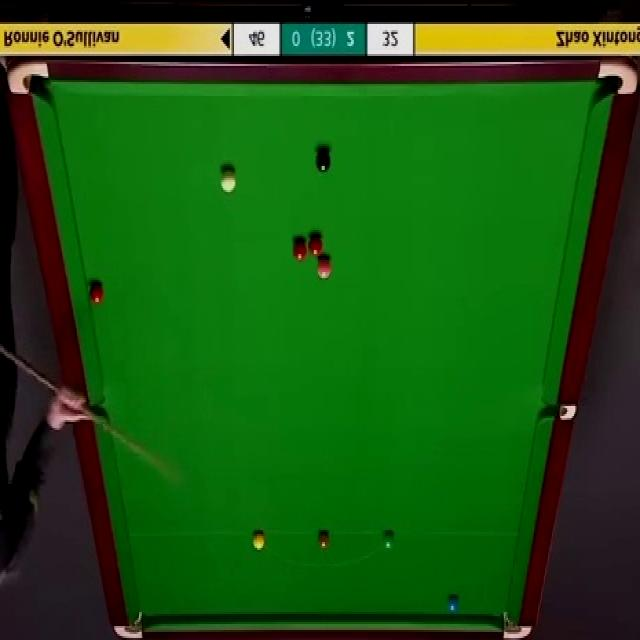black-ball: (315, 153, 331, 173)
blue-ball: (446, 594, 460, 613)
brown-ball: (317, 531, 330, 548)
green-ball: (382, 528, 396, 552)
pink-ball: (316, 256, 332, 280)
red-ball: (309, 230, 323, 257), (288, 226, 304, 248), (292, 239, 307, 262), (88, 284, 105, 304)
white-ball: (218, 166, 239, 193)
yellow-ball: (252, 530, 266, 551)
